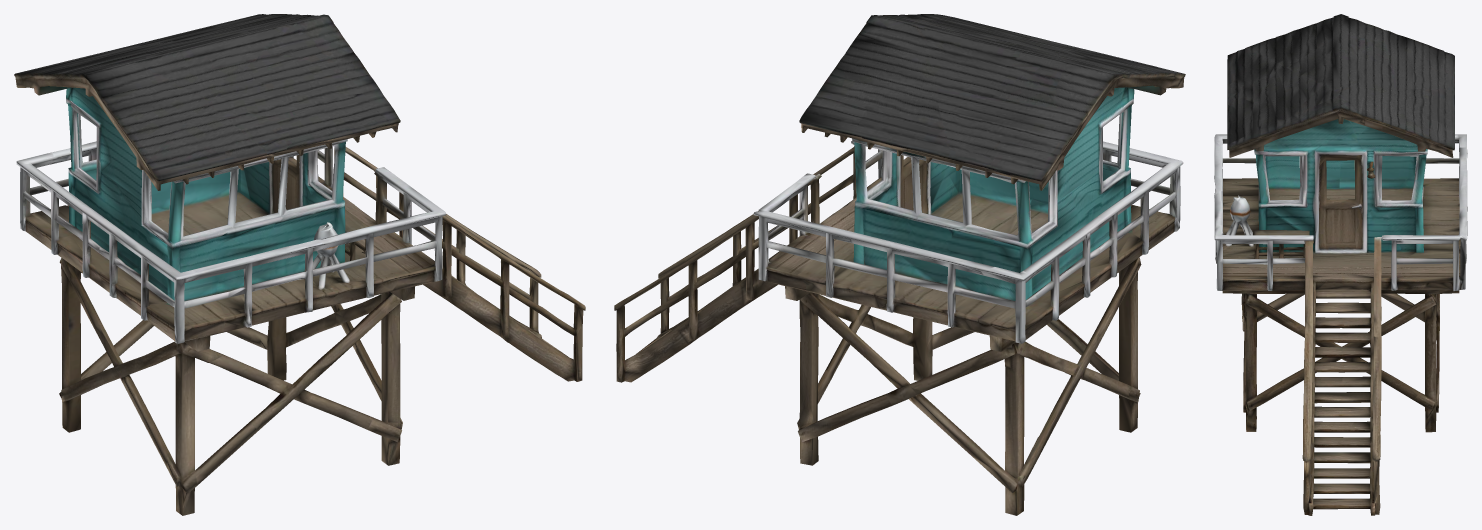
The model's file is prop_lifeguard_tower.glb.
The picture shows the model from 3 angles, left to right: view 1: azimuth 30°, elevation 25°; view 2: azimuth 150°, elevation 25°; view 3: azimuth 270°, elevation 25°; orthographic projection. The views are drawn at different scales.
Visible parts, largest first — view 1: tripo_node_ce5474a4-bdbe-4a50-bff6-6fdb9cf82426; view 2: tripo_node_ce5474a4-bdbe-4a50-bff6-6fdb9cf82426; view 3: tripo_node_ce5474a4-bdbe-4a50-bff6-6fdb9cf82426.
Part boxes in pixels (bbox=[...]): tripo_node_ce5474a4-bdbe-4a50-bff6-6fdb9cf82426: bbox=[14, 14, 585, 515]; tripo_node_ce5474a4-bdbe-4a50-bff6-6fdb9cf82426: bbox=[614, 14, 1185, 515]; tripo_node_ce5474a4-bdbe-4a50-bff6-6fdb9cf82426: bbox=[1214, 14, 1467, 515].
Bounding box in the file's own units: 0.9996 × 0.8153 × 0.5827.
Materials: 1 (1 with a texture image).
